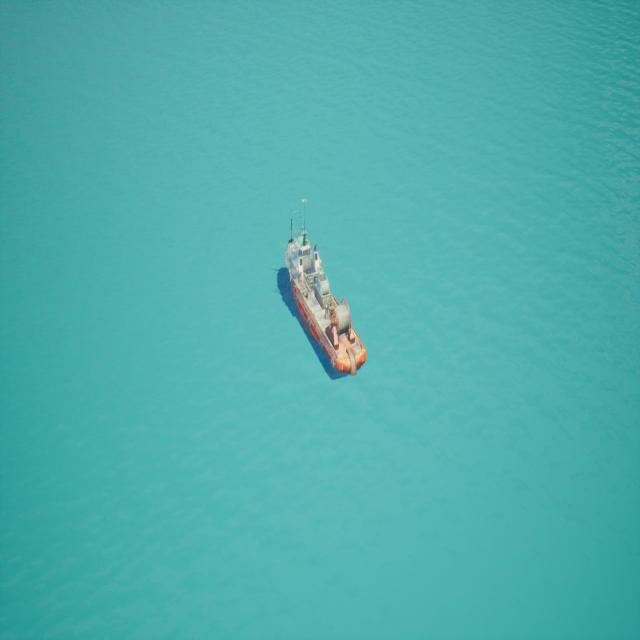tug boat: (265, 169, 371, 417)
